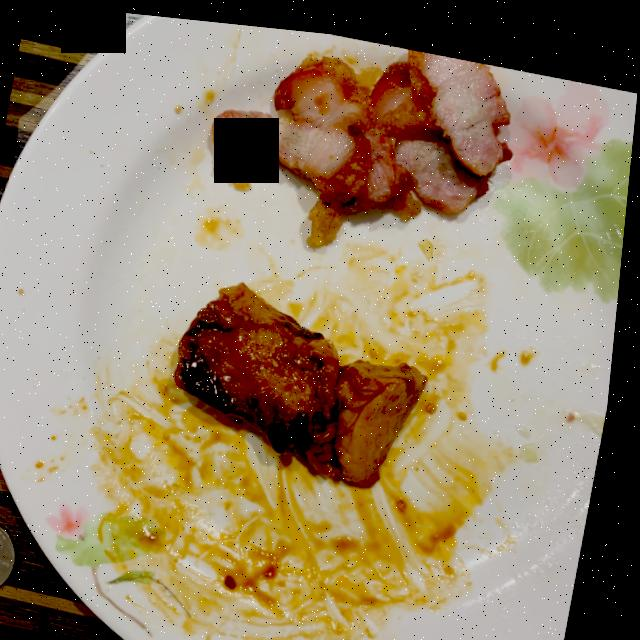coin: (0, 520, 26, 590)
creamy tofu: (181, 277, 434, 478)
red grilled pork: (214, 40, 514, 240)
